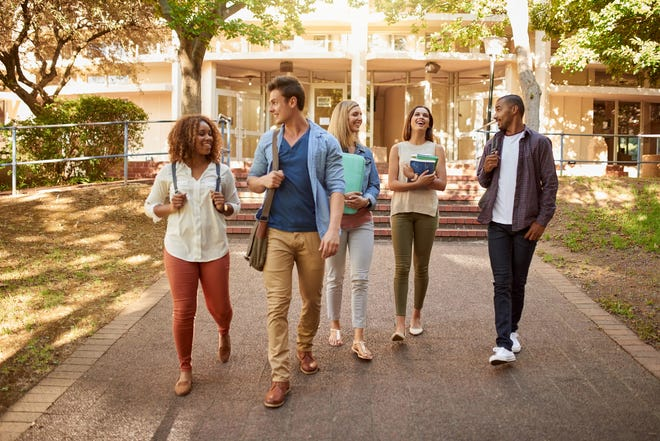Person: (242, 74, 345, 410), (143, 114, 242, 397), (477, 94, 560, 368), (326, 99, 382, 360), (389, 105, 448, 342)
